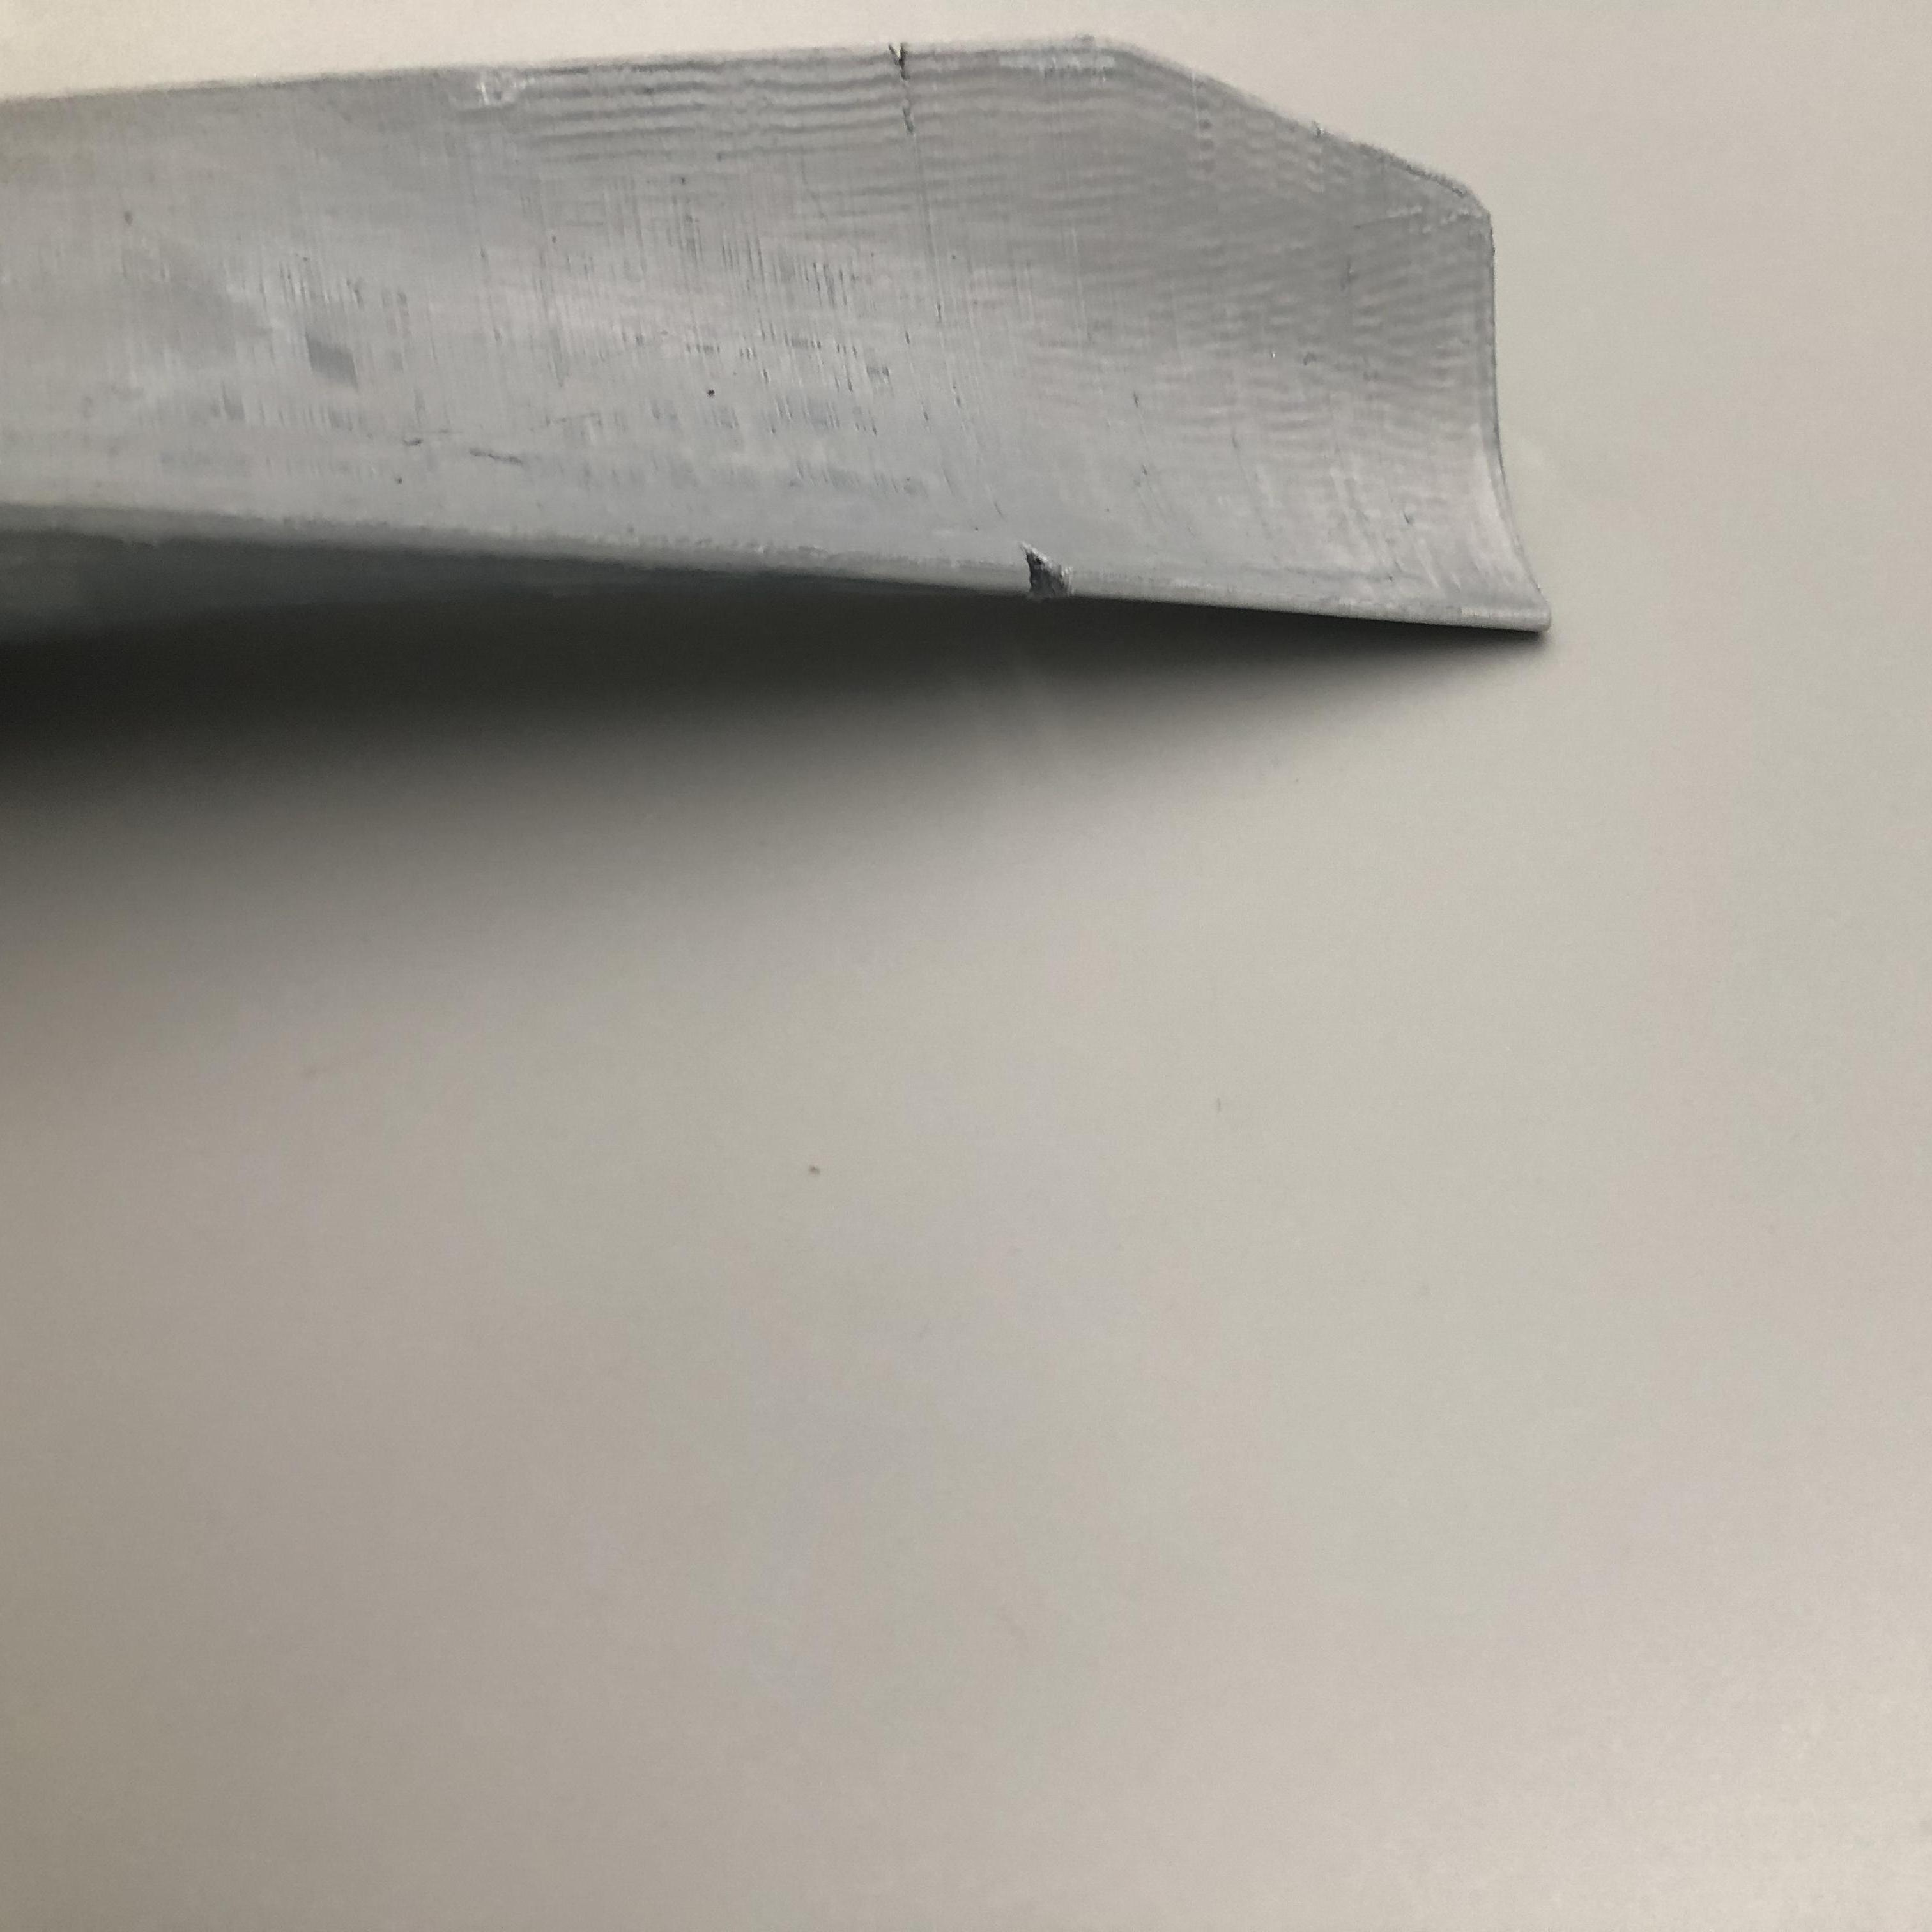groove: (1012, 543, 1100, 598), (879, 46, 931, 76)
